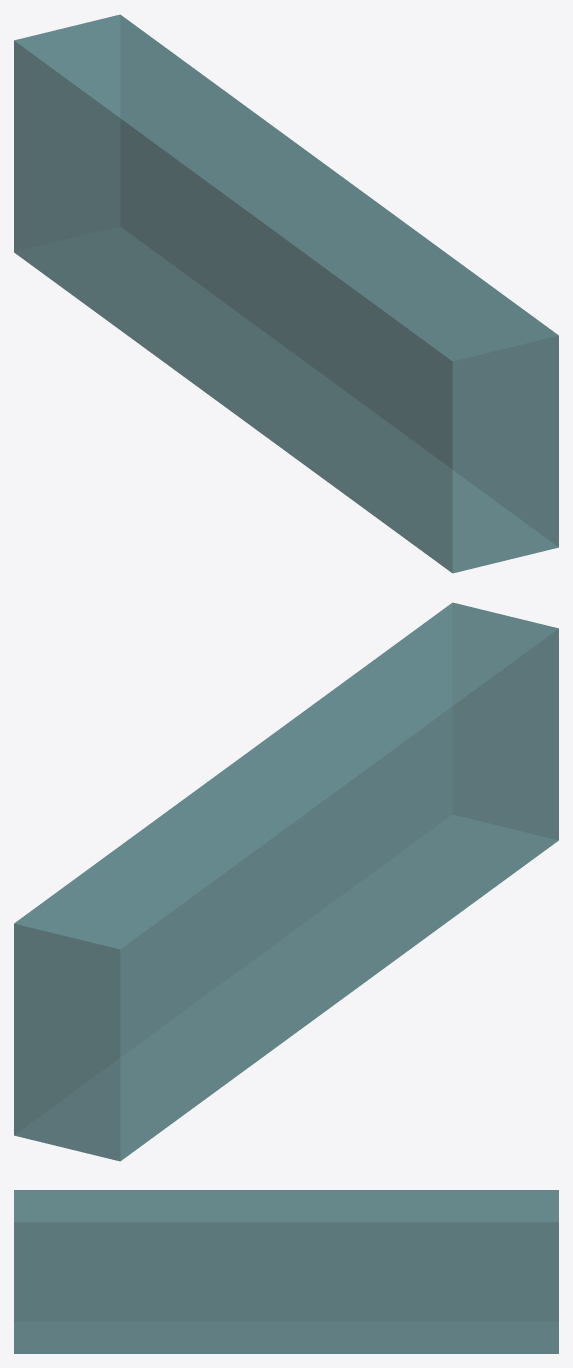
3 views of the same model, one above another, from view 1: azimuth 30°, elevation 25°; view 2: azimuth 150°, elevation 25°; view 3: azimuth 270°, elevation 25° (orthographic). The views are drawn at different scales.
Parts seen in each view (by area): view 1: A-GF-17BA; view 2: A-GF-17BA; view 3: A-GF-17BA.
Part boxes in pixels (x1,y1,x2,y2): A-GF-17BA: [14, 14, 558, 573]; A-GF-17BA: [14, 602, 558, 1161]; A-GF-17BA: [14, 1190, 558, 1353].
Size of the model in its own units: 0.21 by 0.4 by 1.5.
